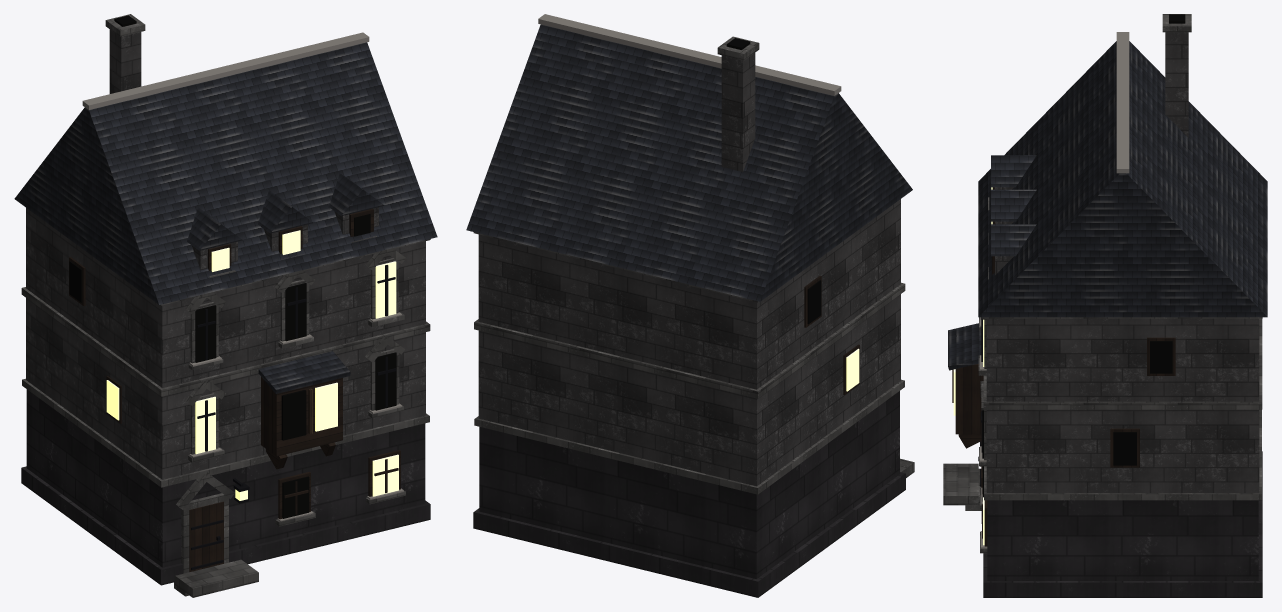
File: CasaB15.gltf
3 renders of one model, left to right at view 1: azimuth 30°, elevation 25°; view 2: azimuth 150°, elevation 25°; view 3: azimuth 270°, elevation 25°, orthographic. The views are drawn at different scales.
Visible parts, largest first — view 1: CasaB15; view 2: CasaB15; view 3: CasaB15.
Boxes of the visible parts, <box> form: CasaB15: <box>14,14,437,597</box>; CasaB15: <box>466,14,914,597</box>; CasaB15: <box>943,14,1267,597</box>.
Size of the model in its own units: 10.28 by 17.07 by 10.31.
10 materials, 6 textured.
